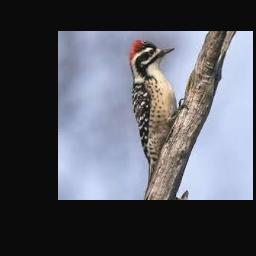Woodpecker: (127, 40, 188, 183)
